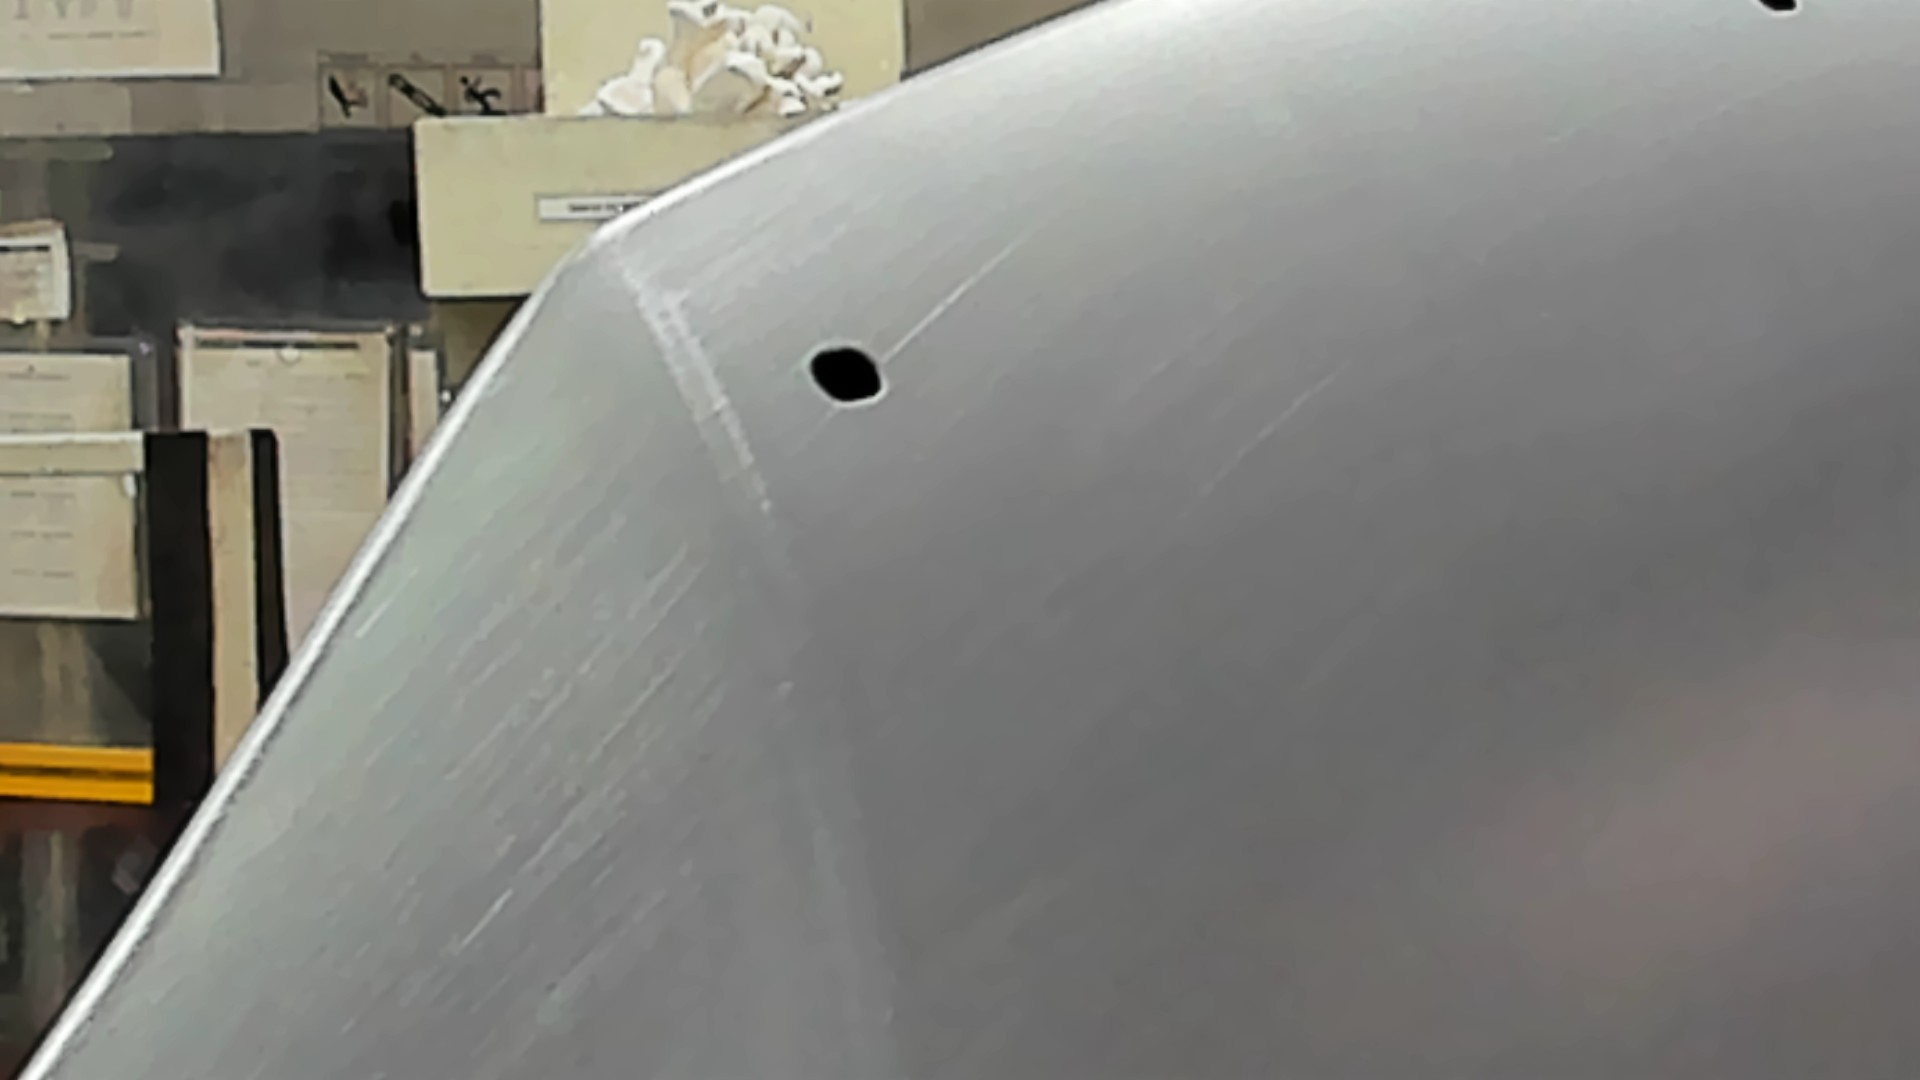amorfo: (800, 340, 897, 418), (1750, 1, 1805, 17)
